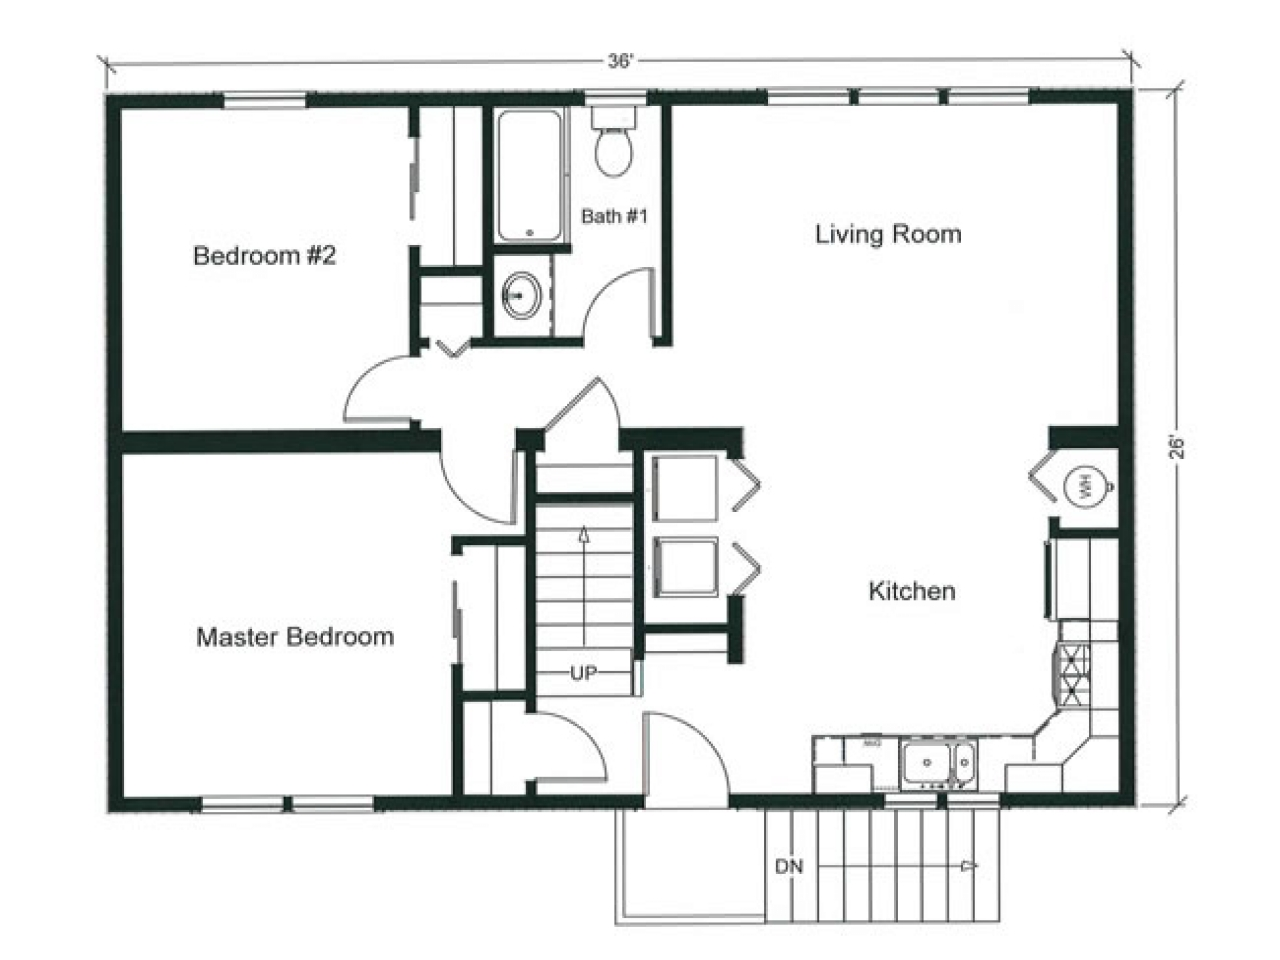door: (640, 705, 736, 790), (327, 352, 416, 425), (533, 710, 616, 783), (436, 458, 521, 526), (586, 265, 660, 338), (546, 376, 621, 429)
window: (853, 84, 946, 106), (940, 86, 1037, 106), (287, 796, 375, 818), (769, 86, 859, 106), (218, 90, 311, 109), (937, 790, 996, 812), (202, 799, 284, 811), (586, 89, 646, 103), (880, 796, 940, 808)
